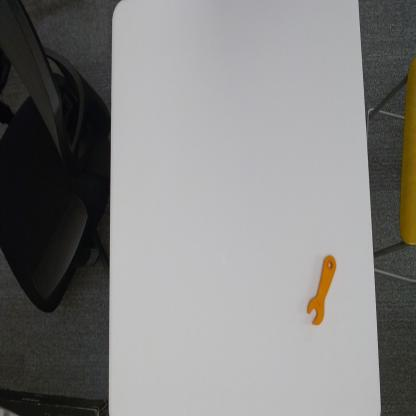Screwdriver: (306, 249, 338, 328)
